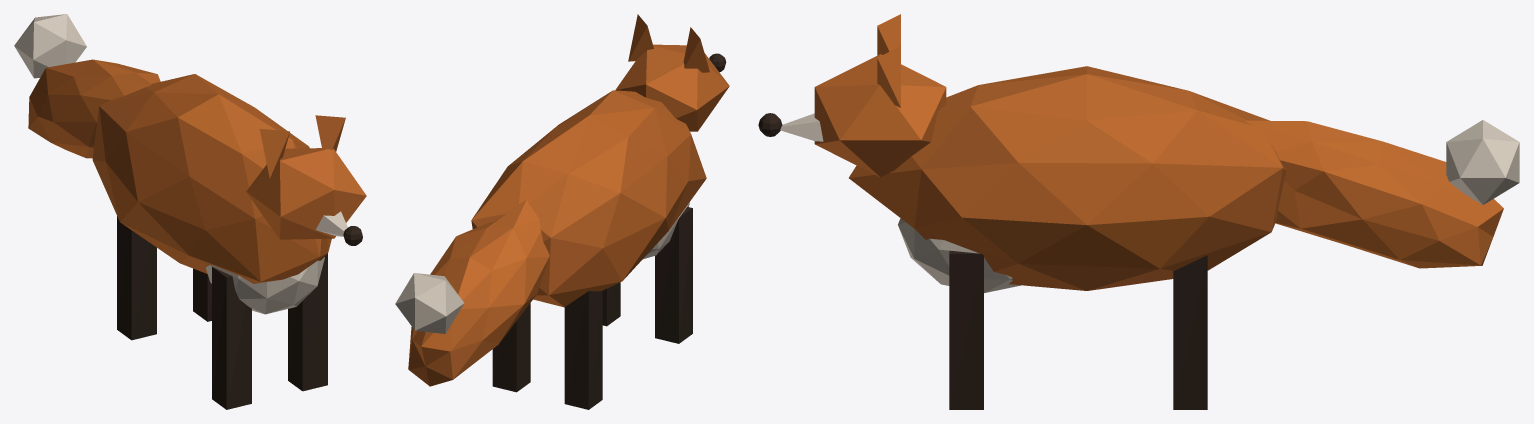
File: bete-renard.glb
3 renders of one model, left to right at view 1: azimuth 30°, elevation 25°; view 2: azimuth 150°, elevation 25°; view 3: azimuth 270°, elevation 25°, orthographic. The views are drawn at different scales.
Bounding box in the file's own units: 0.2904 × 0.5 × 0.9999.
